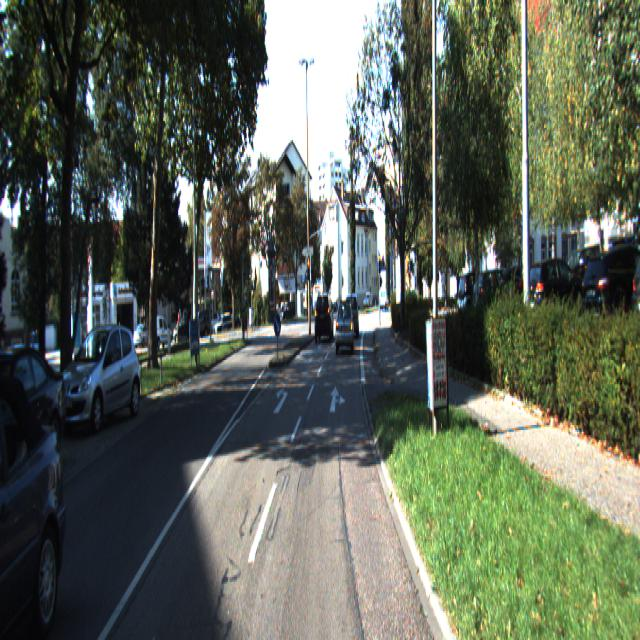Car: (0, 364, 77, 638), (0, 342, 70, 513), (59, 324, 142, 435), (472, 269, 520, 322), (456, 268, 497, 319), (315, 293, 334, 342), (336, 302, 353, 353), (345, 294, 359, 337)
